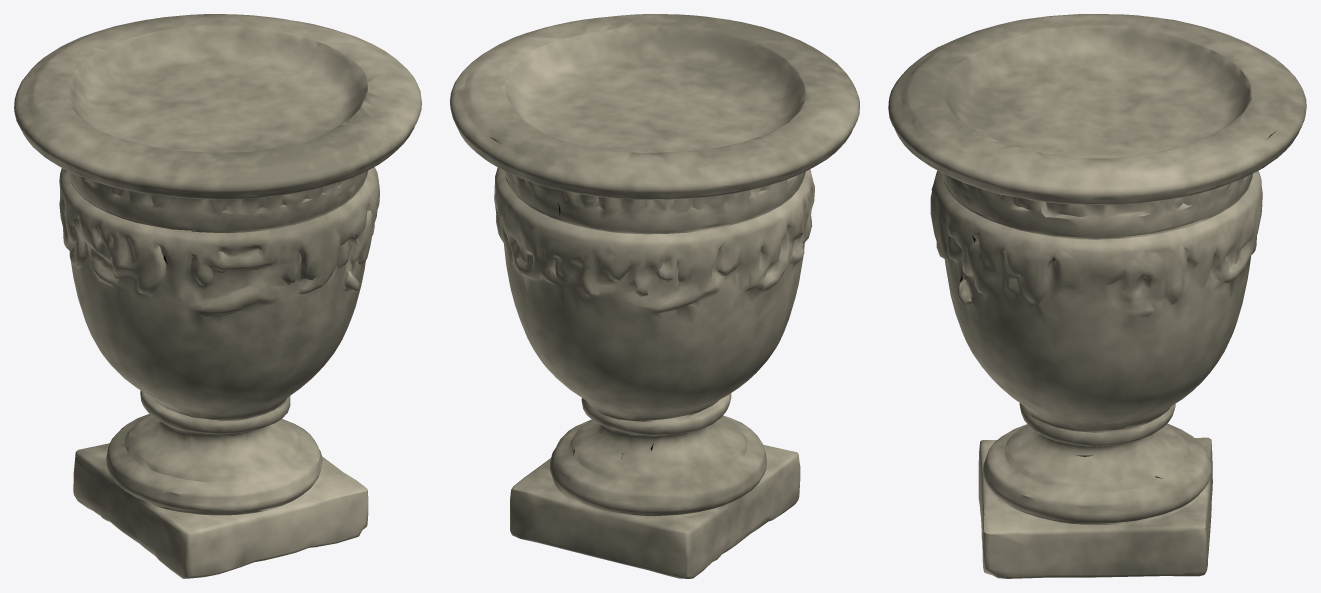
File: limestone-planter-v004.glb
3 renders of one model, left to right at view 1: azimuth 30°, elevation 25°; view 2: azimuth 150°, elevation 25°; view 3: azimuth 270°, elevation 25°, orthographic. The views are drawn at different scales.
Parts seen in each view (by area): view 1: limestone-planter; view 2: limestone-planter; view 3: limestone-planter.
Boxes of the visible parts, <box> form: limestone-planter: <box>14,14,421,578</box>; limestone-planter: <box>450,14,859,578</box>; limestone-planter: <box>888,14,1306,578</box>.
Size of the model in its own units: 0.4311 by 0.5 by 0.4297.
1 material, 1 textured.
